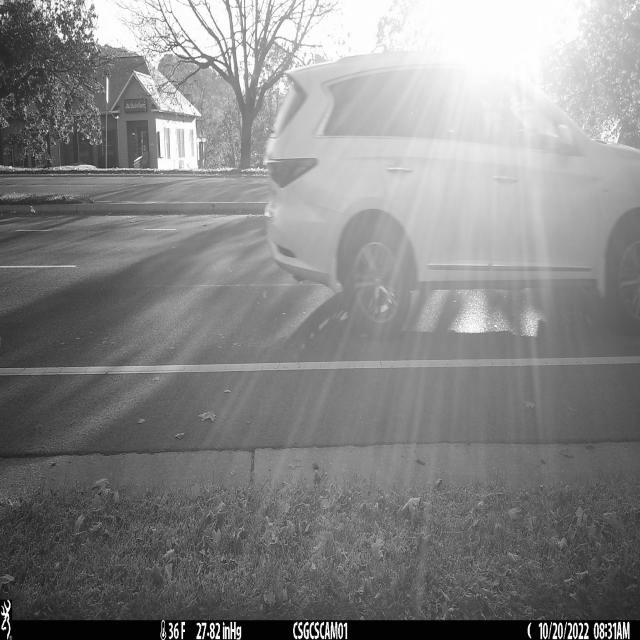SUV: (264, 54, 640, 338)
